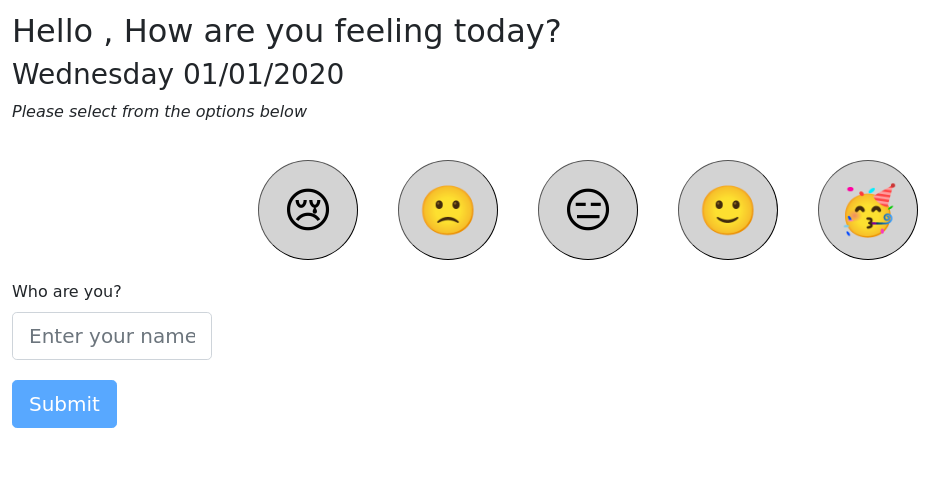
Scenario: Colleague Interface component › displays a failure alert when request is unsuccessful
Click the button named "ecstatic" at [868, 210], box left=818, top=160, right=918, bottom=260
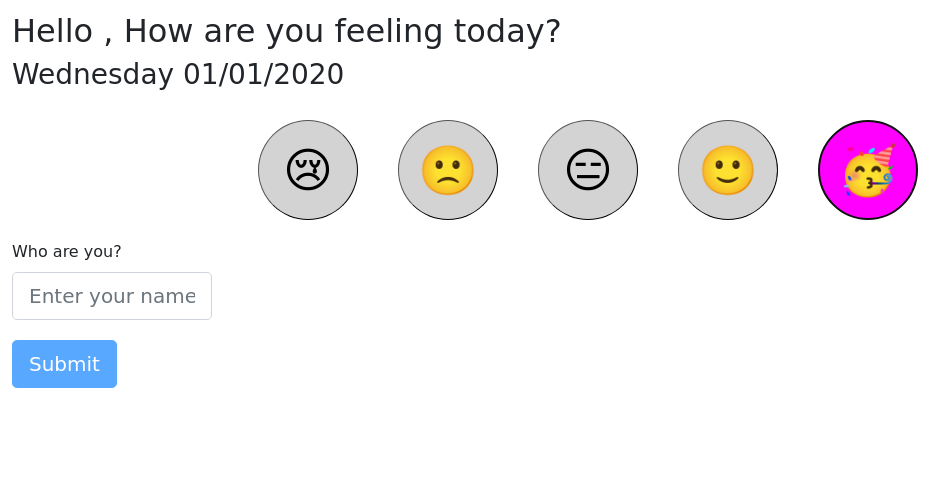
Type "tester" into the field labelled "Who are you?" at [112, 296], box left=12, top=272, right=212, bottom=320
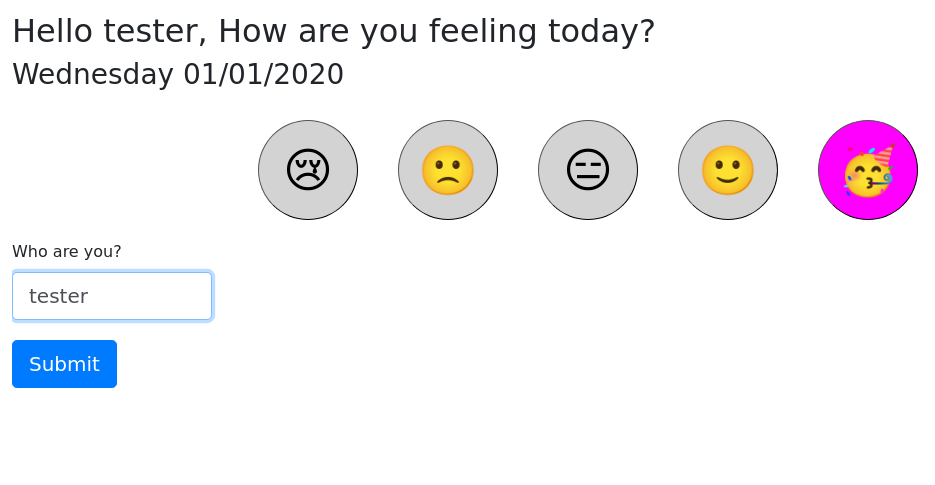
Click the button "Submit" at [64, 364], box left=12, top=340, right=117, bottom=388
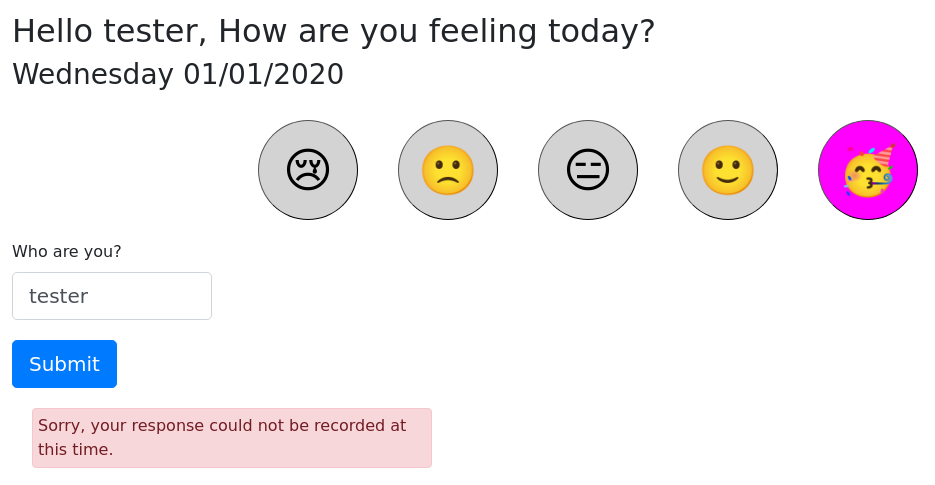
Now the message reads "Sorry, your response could not be recorded at this time.", box left=38, top=416, right=406, bottom=459
